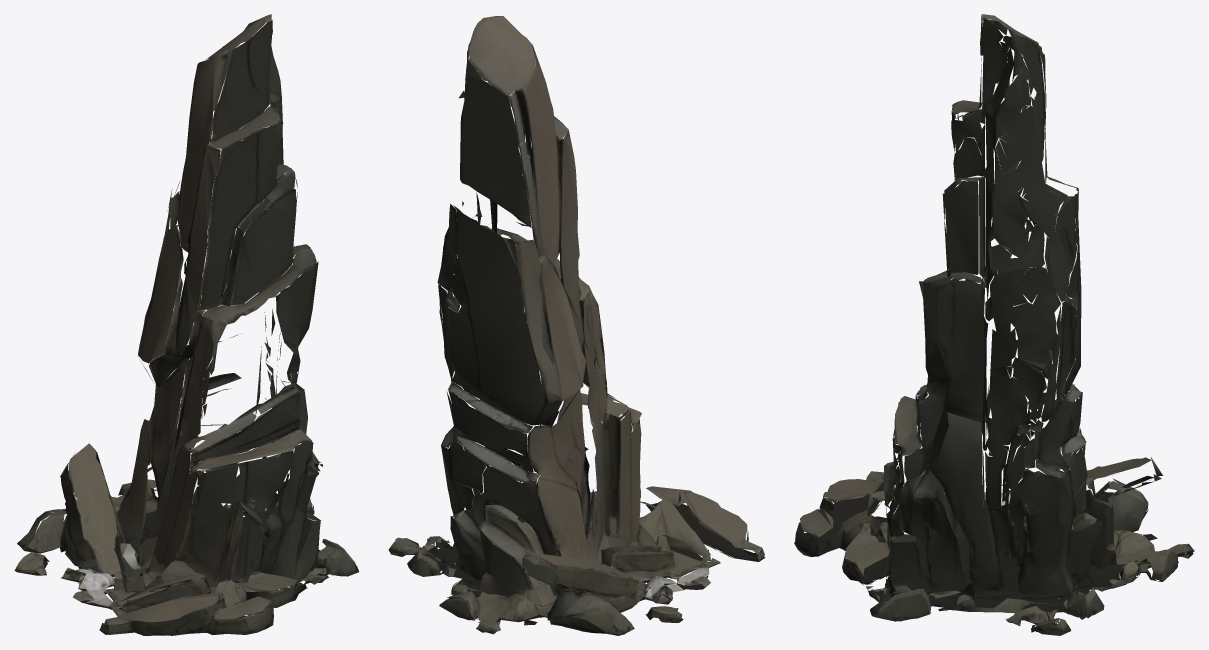
File: basaltSpire.glb
The picture shows the model from 3 angles, left to right: view 1: azimuth 30°, elevation 25°; view 2: azimuth 150°, elevation 25°; view 3: azimuth 270°, elevation 25°; orthographic projection. The views are drawn at different scales.
Parts seen in each view (by area): view 1: Prop_basaltSpire; view 2: Prop_basaltSpire; view 3: Prop_basaltSpire.
Boxes of the visible parts, bbox=[...] form: Prop_basaltSpire: bbox=[14, 14, 359, 635]; Prop_basaltSpire: bbox=[388, 16, 765, 635]; Prop_basaltSpire: bbox=[794, 14, 1194, 635].
Size of the model in its own units: 3.02 by 5.2 by 3.23.
Materials: 1 (1 with a texture image).
